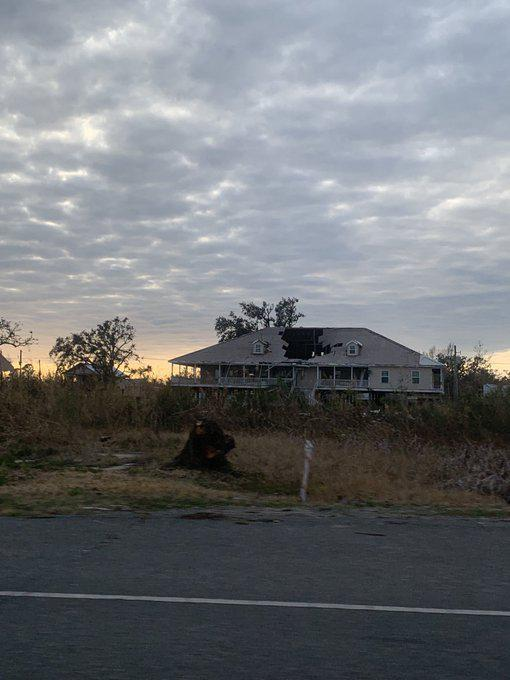major: (160, 308, 469, 420)
